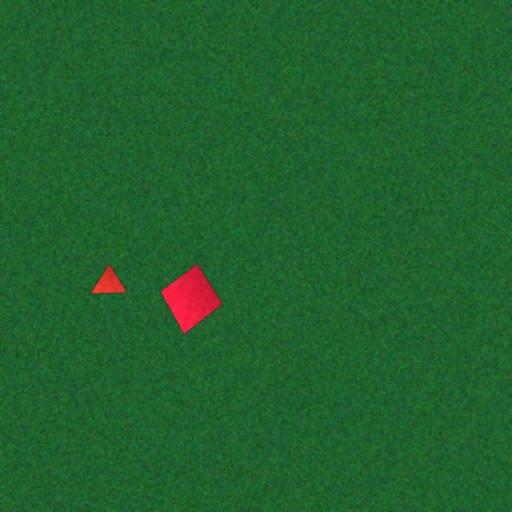RED_SQUARE: (160, 263, 223, 335)
